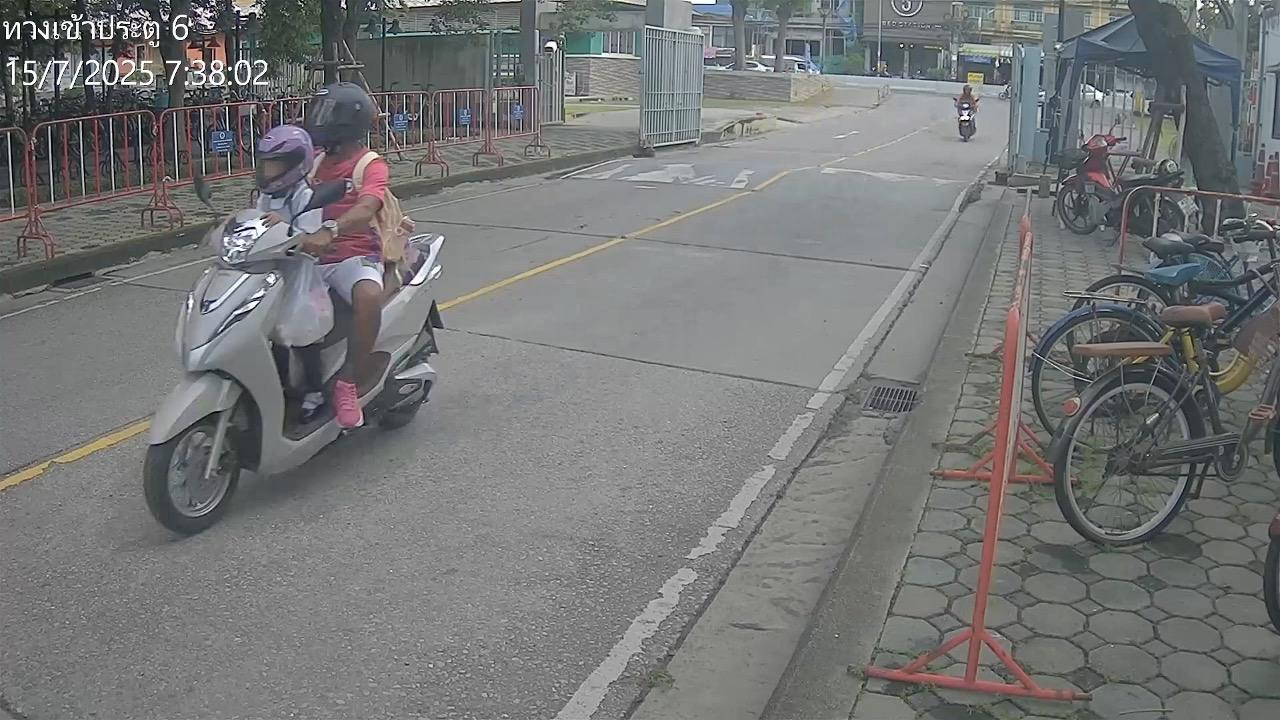With-Helmet: (304, 81, 376, 148), (253, 124, 312, 194)
